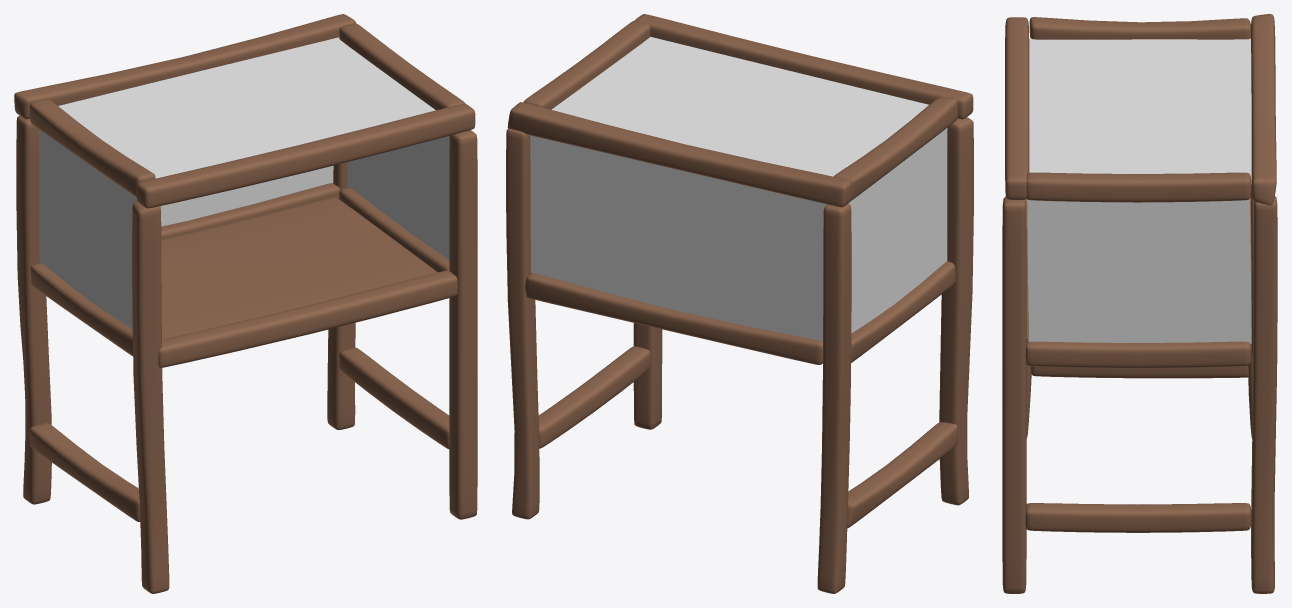
File: Display Case01.fbx
The picture shows the model from 3 angles, left to right: view 1: azimuth 30°, elevation 25°; view 2: azimuth 150°, elevation 25°; view 3: azimuth 270°, elevation 25°; orthographic projection.
Parts seen in each view (by area): view 1: Display Case; view 2: Display Case; view 3: Display Case.
Boxes of the visible parts, <box> form: Display Case: <box>14,14,477,593</box>; Display Case: <box>506,14,973,593</box>; Display Case: <box>1002,14,1277,593</box>.
Bounding box in the file's own units: 67.71 × 78.08 × 46.69.
